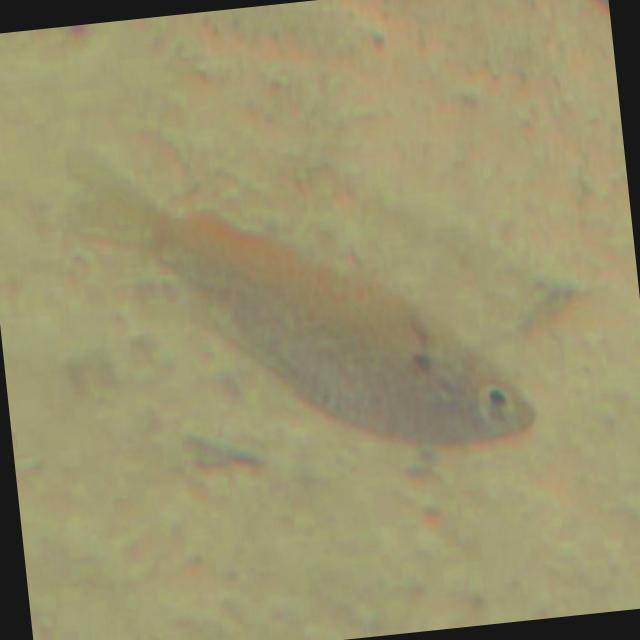Gunes Levregi: (36, 79, 543, 502)
